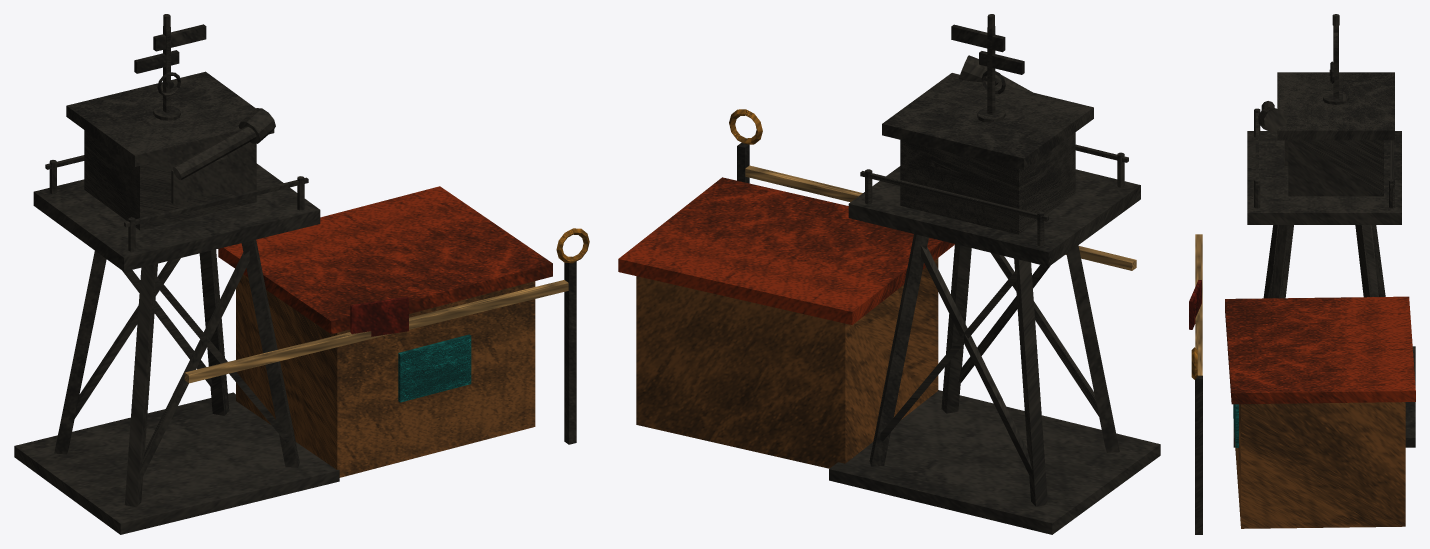
Rendered from east-way-station.glb.
3 renders of one model, left to right at view 1: azimuth 30°, elevation 25°; view 2: azimuth 150°, elevation 25°; view 3: azimuth 270°, elevation 25°, orthographic. The views are drawn at different scales.
Visible parts, largest first — view 1: east-way-station; view 2: east-way-station; view 3: east-way-station.
Part boxes in pixels (box(x1,y1,x2,y2)): east-way-station: box(14, 14, 589, 534); east-way-station: box(618, 14, 1160, 534); east-way-station: box(1189, 14, 1415, 534).
Bounding box in the file's own units: 10.18 × 9.8 × 5.23.
Materials: 1 (1 with a texture image).
